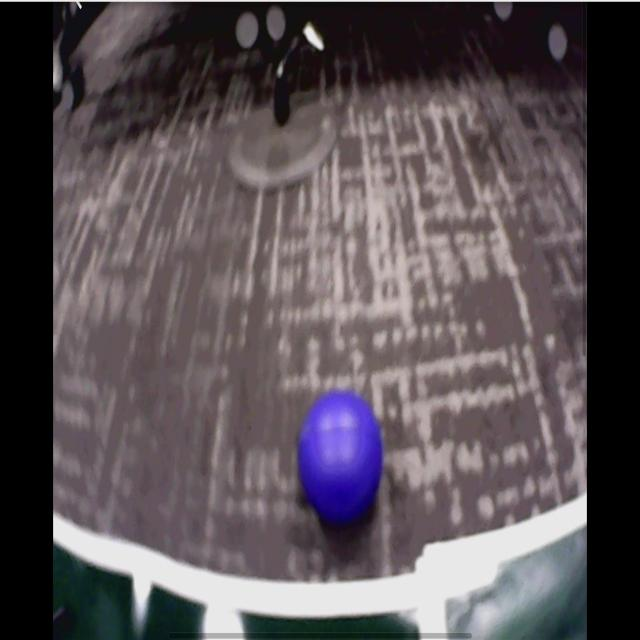ball: (297, 389, 384, 522)
